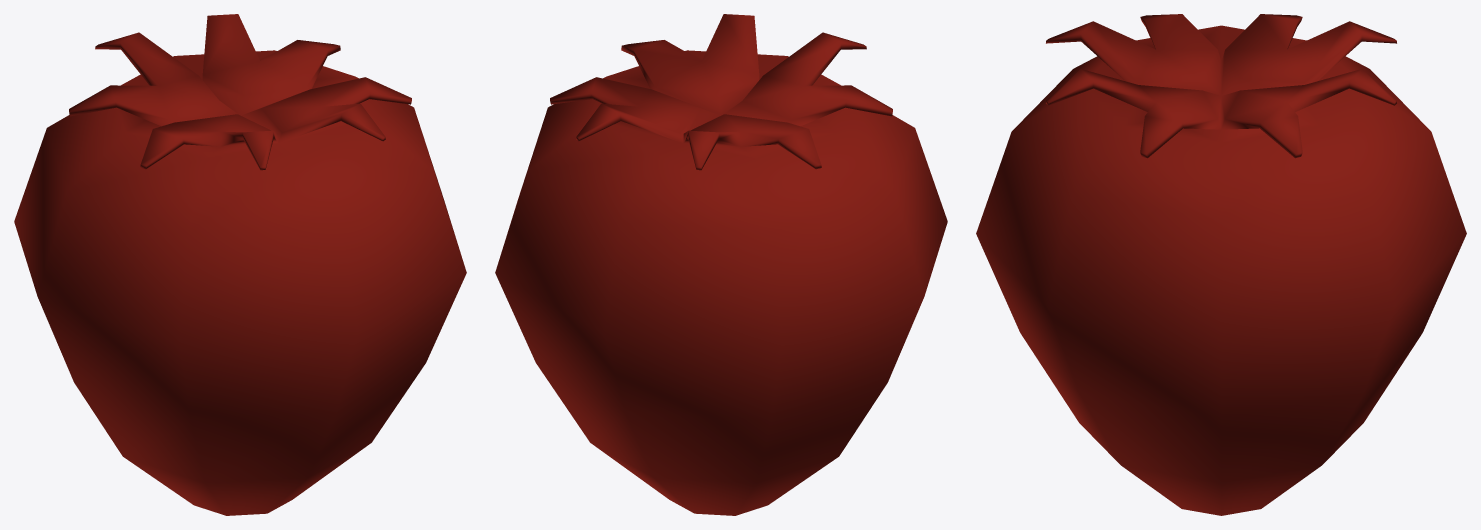
The model's file is truskawka.fbx.
3 views of the same model, side by side, from view 1: azimuth 30°, elevation 25°; view 2: azimuth 150°, elevation 25°; view 3: azimuth 270°, elevation 25° (orthographic). The views are drawn at different scales.
Parts seen in each view (by area): view 1: Truskawak; view 2: Truskawak; view 3: Truskawak.
Boxes of the visible parts, bbox=[...] form: Truskawak: bbox=[14, 14, 466, 515]; Truskawak: bbox=[495, 14, 947, 515]; Truskawak: bbox=[976, 14, 1466, 515].
Bounding box in the file's own units: 2.15 × 2.13 × 2.15.
